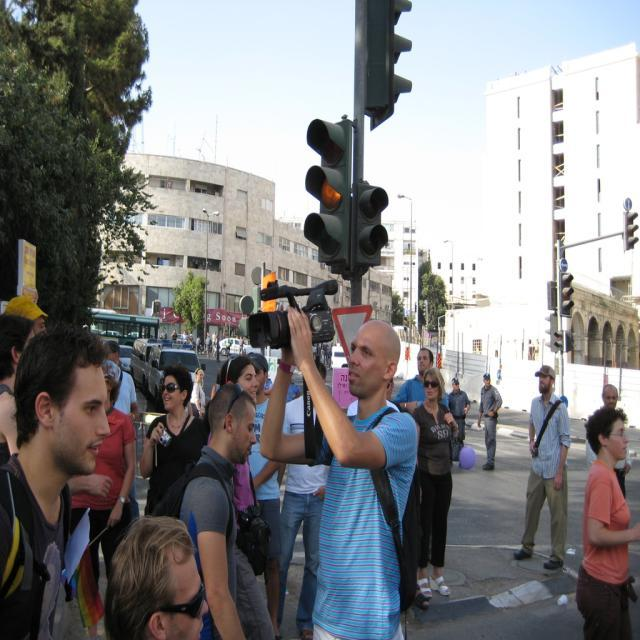obstructed_road_sign: (332, 304, 372, 364)
off traffic light: (364, 0, 413, 130), (352, 181, 390, 265), (560, 272, 575, 315)
traffic light: (303, 116, 350, 261), (624, 211, 640, 249)
